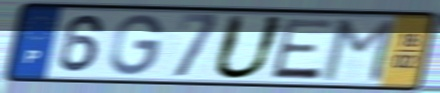6: (56, 13, 105, 75)
7: (173, 11, 220, 81)
E: (268, 17, 337, 82)
G: (108, 13, 166, 78)
M: (318, 17, 399, 84)
U: (208, 12, 289, 82)
